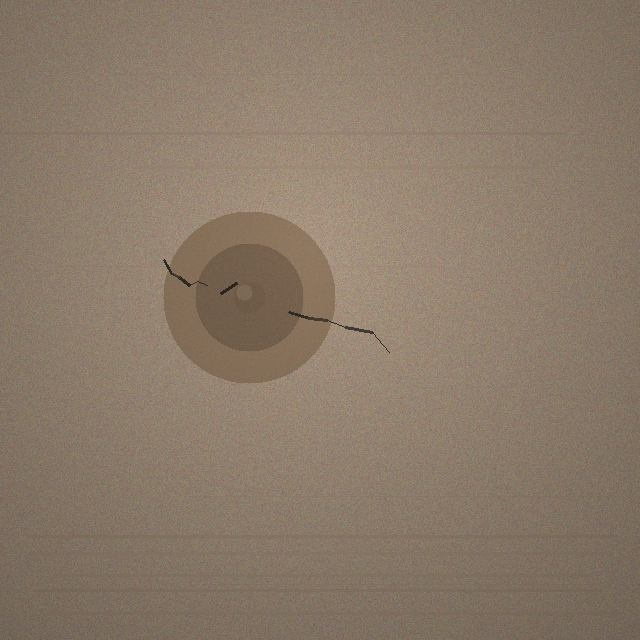crack: (163, 211, 335, 383)
